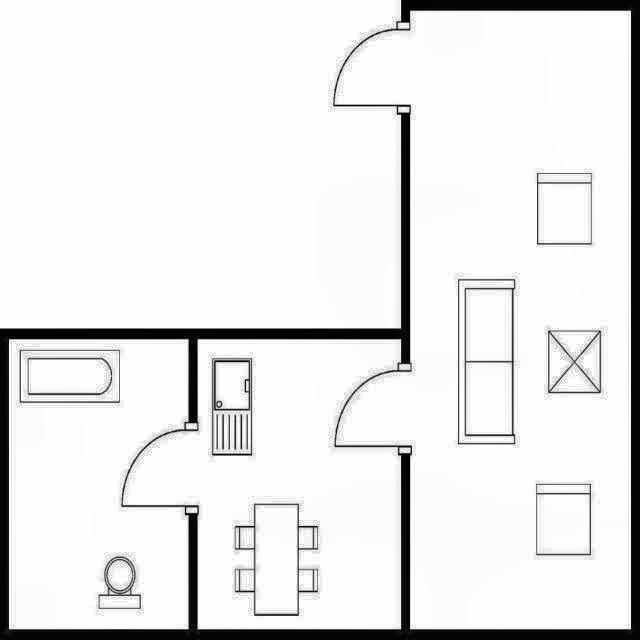room: (410, 11, 631, 630), (198, 339, 401, 629), (9, 339, 189, 629)
